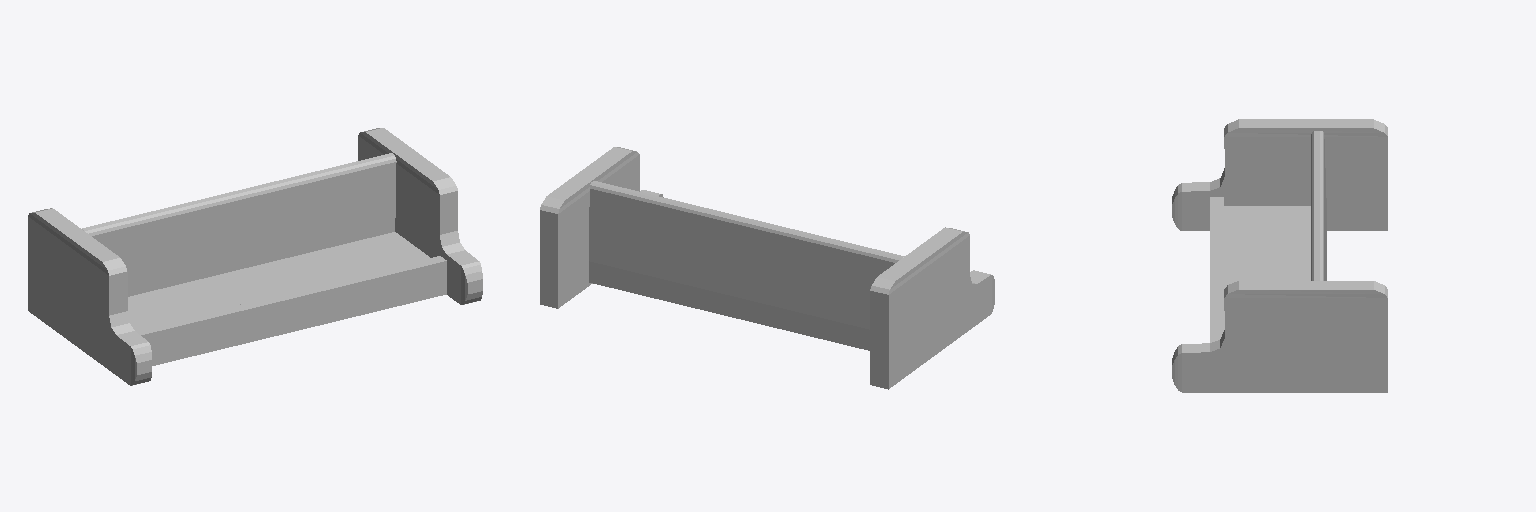
The model's file is cadeira.obj.
3 views of the same model, side by side, from view 1: azimuth 30°, elevation 25°; view 2: azimuth 150°, elevation 25°; view 3: azimuth 270°, elevation 25° (orthographic).
Visible parts, largest first — view 1: uploads_files_[number redacted]_bench; view 2: uploads_files_[number redacted]_bench; view 3: uploads_files_[number redacted]_bench.
Boxes of the visible parts, box(x1,y1,x2,y2) form: uploads_files_[number redacted]_bench: box(28, 128, 482, 385); uploads_files_[number redacted]_bench: box(540, 147, 994, 389); uploads_files_[number redacted]_bench: box(1172, 119, 1387, 392).
Bounding box in the file's own units: 0.8876 × 0.2505 × 0.4751.